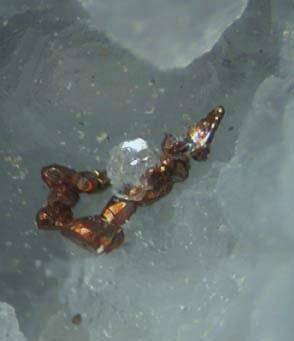copper: (37, 106, 225, 254)
